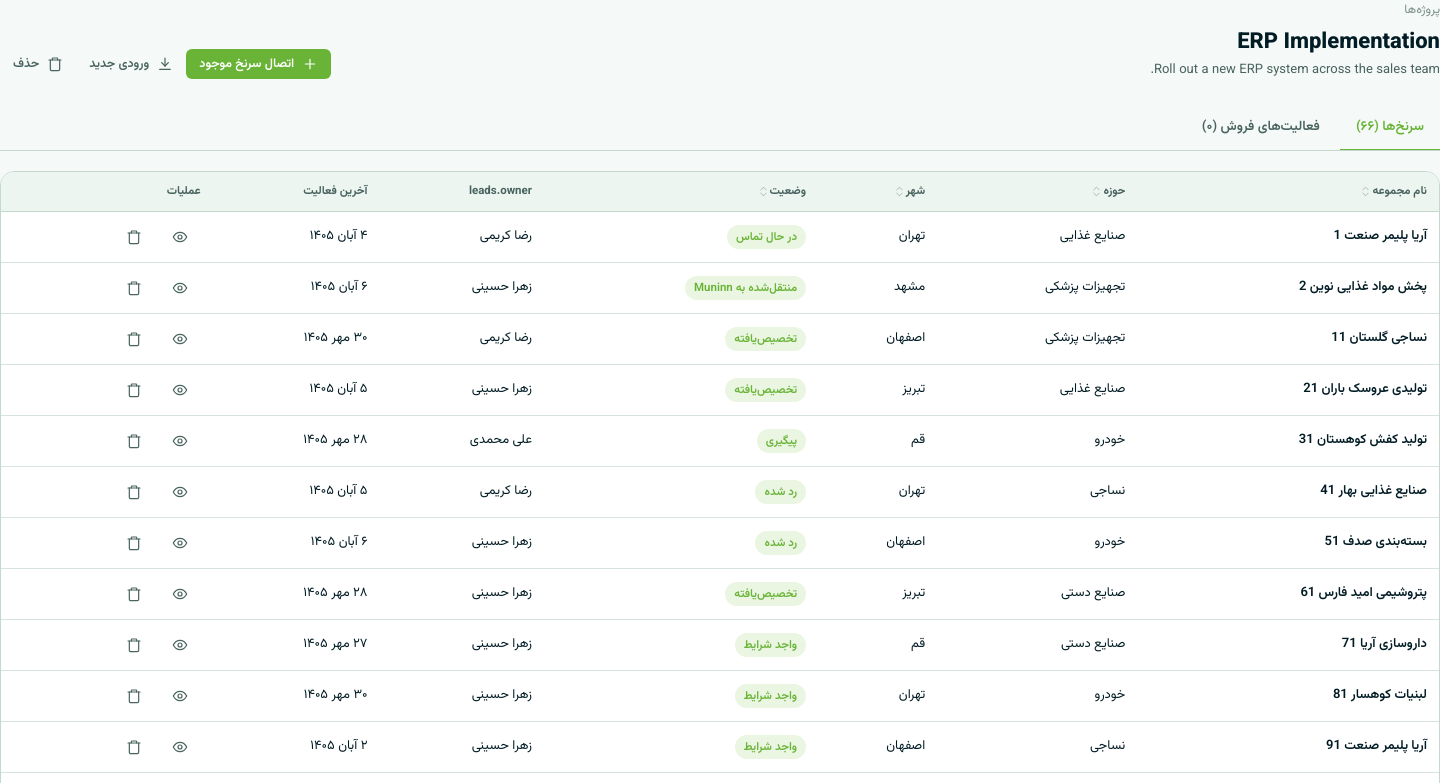
Test: project detail — attach existing leads › removes a lead connection without deleting the lead
This screenshot has width=1440, height=783.
Expected: the heading "ERP Implementation" is shown, x1=1237 y1=25 x2=1439 y2=60
Click the 1st button named "حذف اتصال" at [134, 237], box x1=113 y1=222 x2=155 y2=252
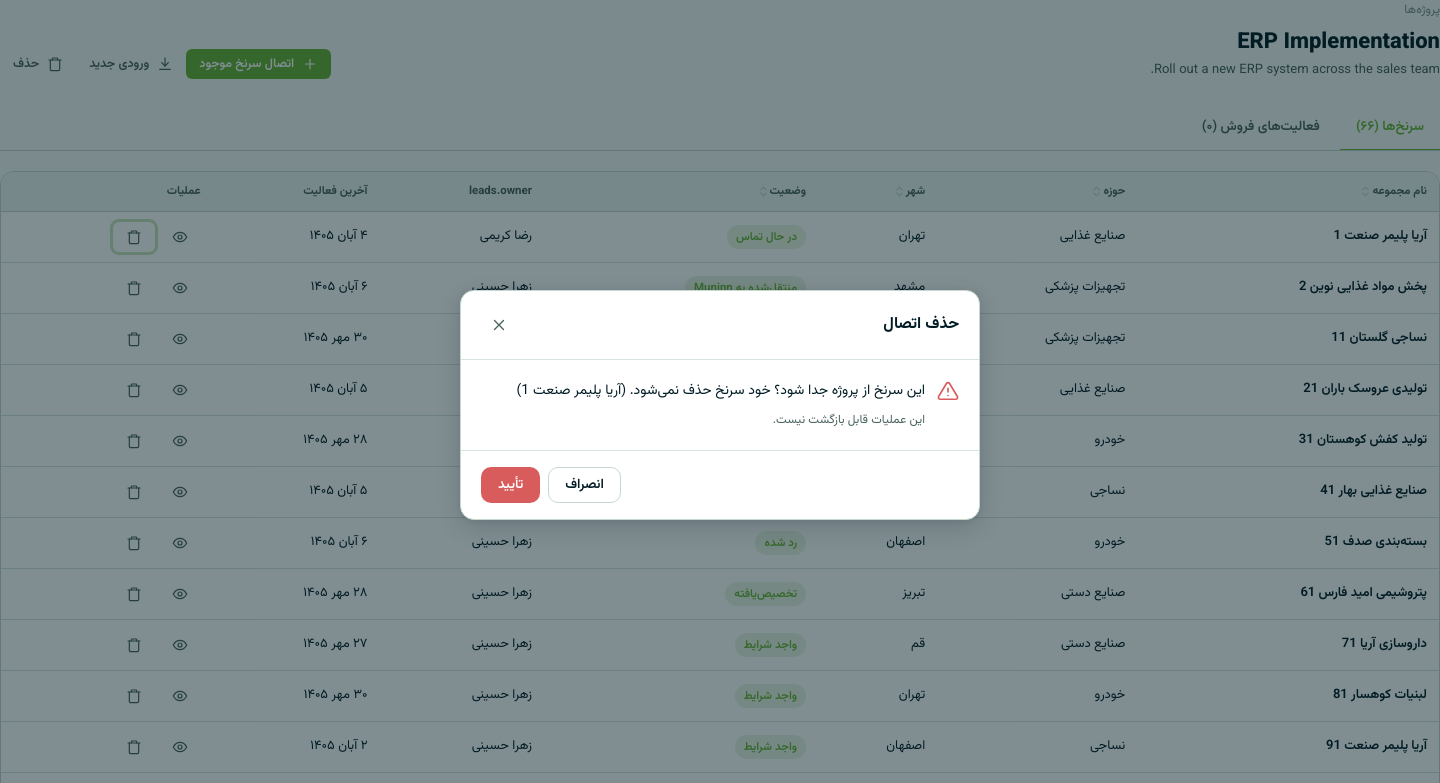
Now the text "جدا شود" is shown, box x1=516 y1=380 x2=925 y2=402
Click the button "تأیید" at [511, 485], box x1=481 y1=467 x2=540 y2=503
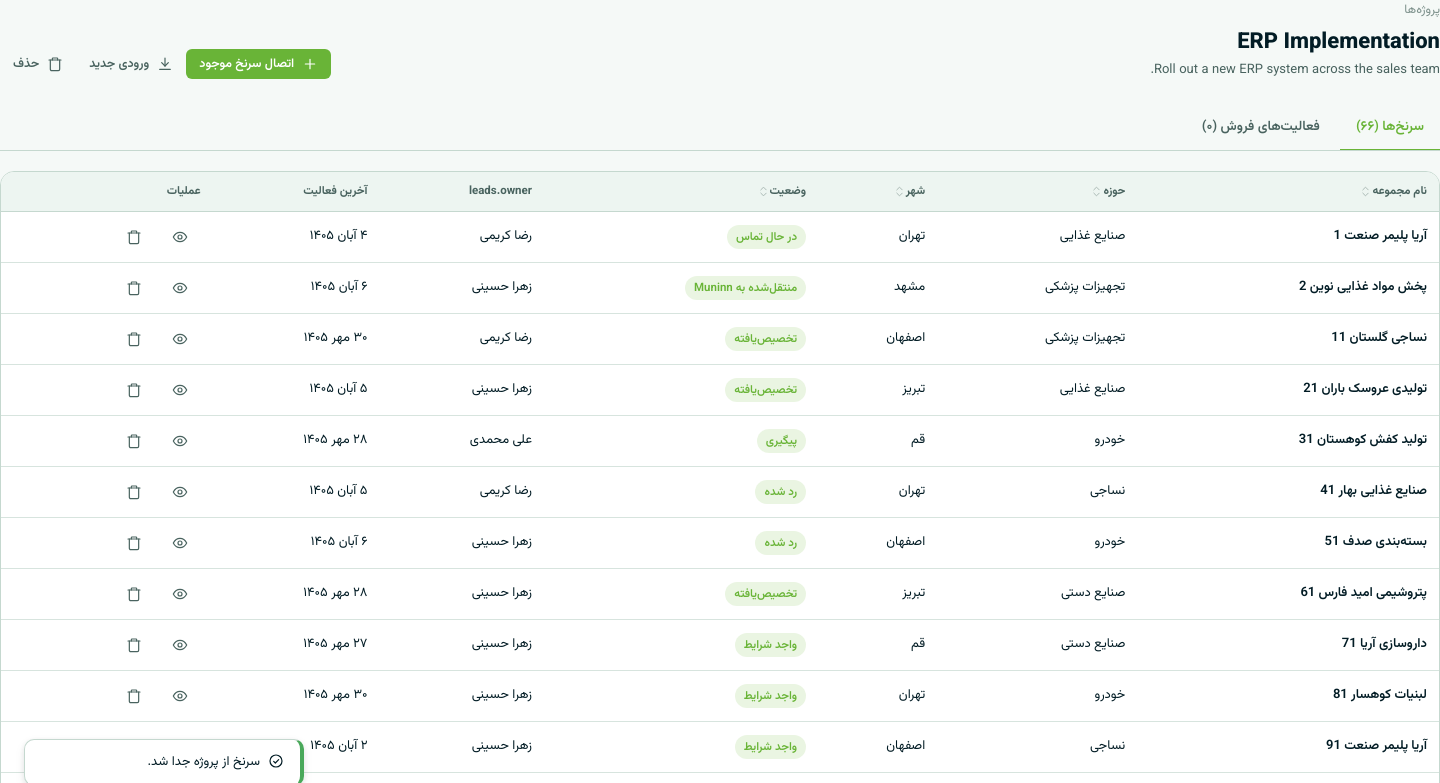
Now the text "سرنخ از پروژه جدا شد." is shown, box x1=148 y1=752 x2=260 y2=773
